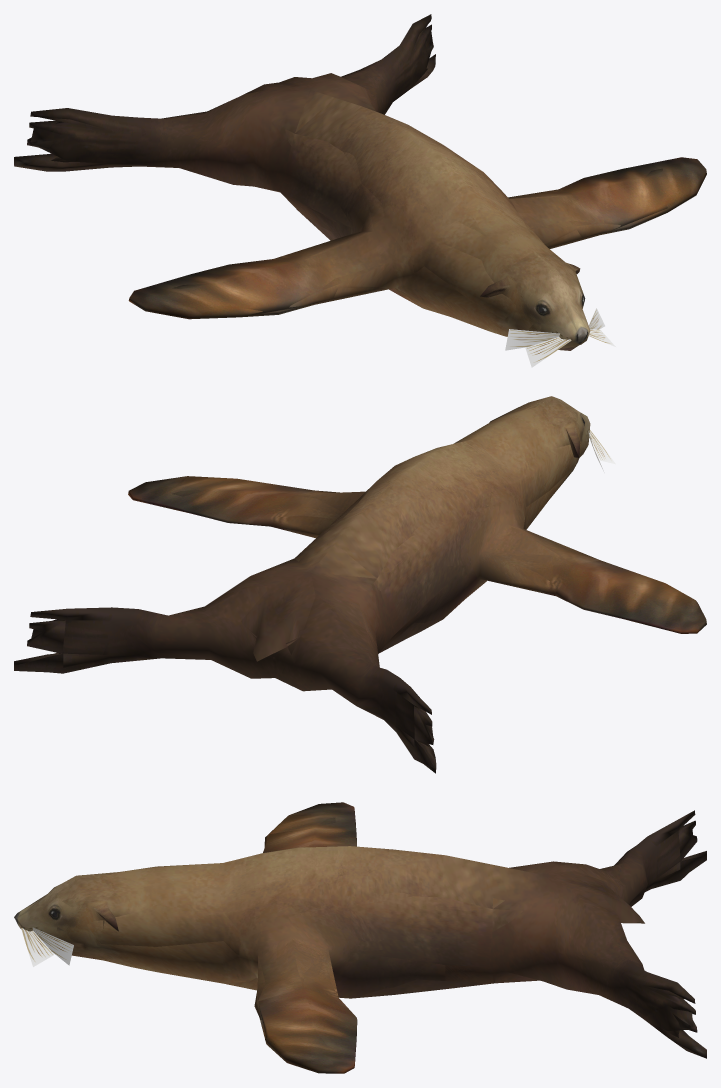
Rendered from california-sea-lion.glb.
3 renders of one model, top to bottom at view 1: azimuth 30°, elevation 25°; view 2: azimuth 150°, elevation 25°; view 3: azimuth 270°, elevation 25°, orthographic. The views are drawn at different scales.
Visible parts, largest first — view 1: Object_3, Object_2, Object_4; view 2: Object_3, Object_2, Object_4; view 3: Object_3, Object_2, Object_4.
Part boxes in pixels (x1=…): Object_3: x1=14, y1=14, x2=706, y2=367; Object_2: x1=30, y1=24, x2=667, y2=350; Object_4: x1=134, y1=111, x2=694, y2=340; Object_3: x1=14, y1=396, x2=706, y2=773; Object_2: x1=14, y1=397, x2=665, y2=768; Object_4: x1=129, y1=407, x2=693, y2=656; Object_3: x1=14, y1=802, x2=706, y2=1073; Object_2: x1=18, y1=813, x2=706, y2=1052; Object_4: x1=27, y1=807, x2=644, y2=1071.
Bounding box in the file's own units: 1.69 × 0.4312 × 1.84.
3 materials, 3 textured.
